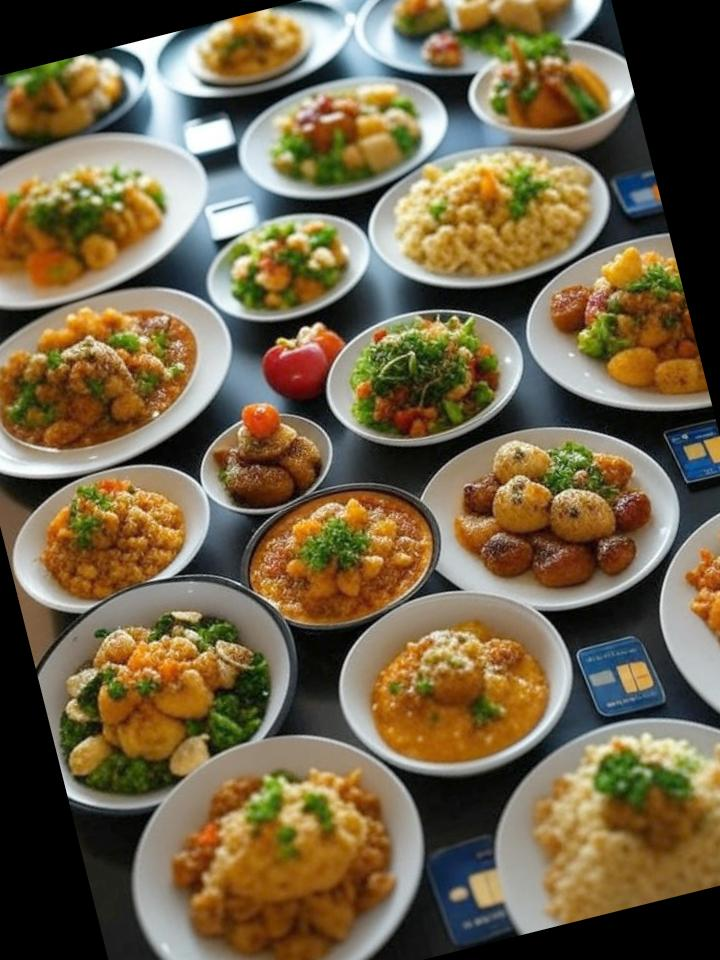reference_object: (578, 630, 665, 720)
